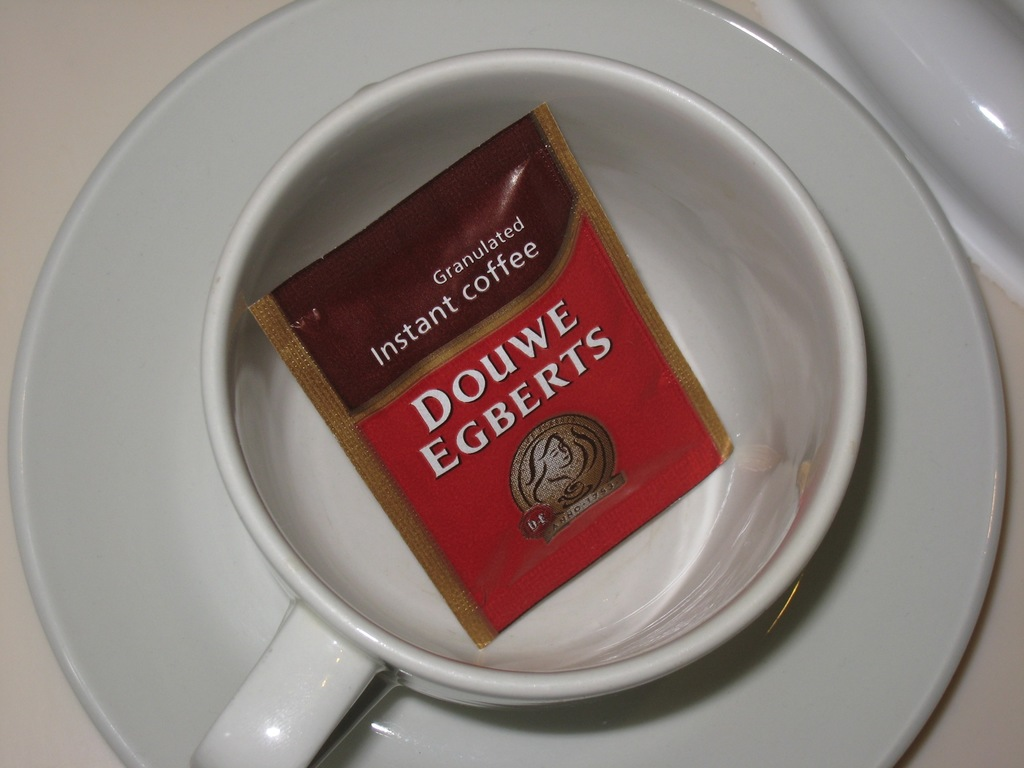plate: (8, 0, 1009, 767)
